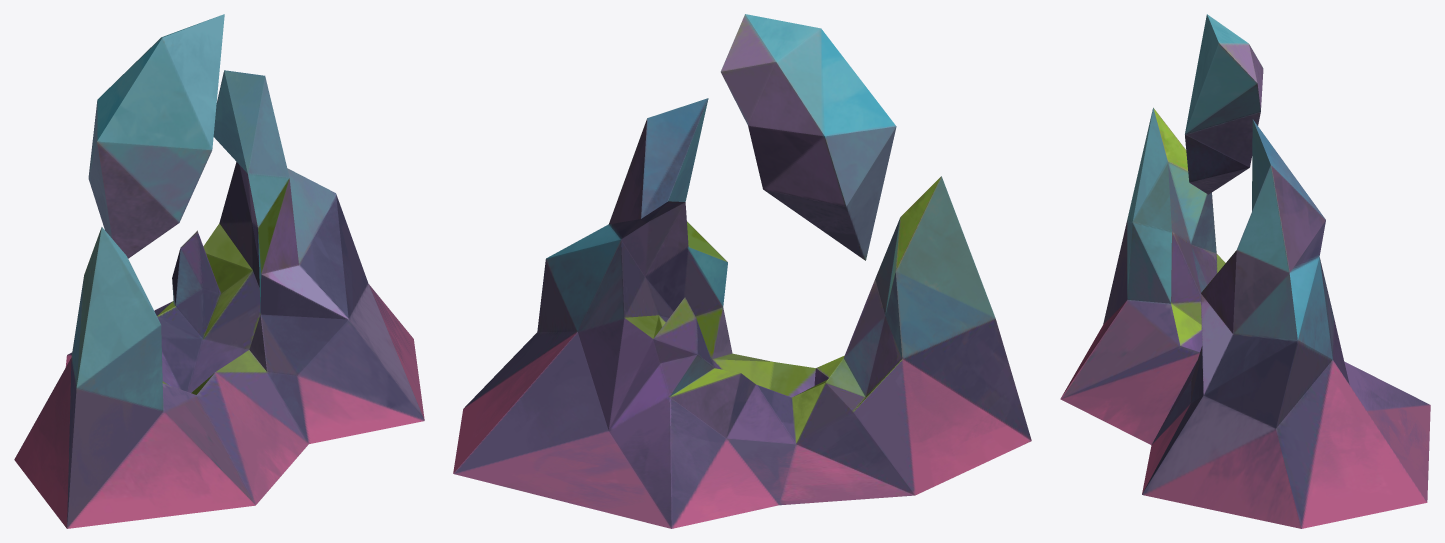
The model's file is environ_rock_var4.fbx.
3 renders of one model, left to right at view 1: azimuth 30°, elevation 25°; view 2: azimuth 150°, elevation 25°; view 3: azimuth 270°, elevation 25°, orthographic. The views are drawn at different scales.
Visible parts, largest first — view 1: environ_mtn_var4, floating_rock4; view 2: environ_mtn_var4, floating_rock4; view 3: environ_mtn_var4, floating_rock4.
Boxes of the visible parts, bbox=[...] form: environ_mtn_var4: bbox=[14, 70, 424, 528]; floating_rock4: bbox=[88, 14, 224, 258]; environ_mtn_var4: bbox=[453, 98, 1031, 528]; floating_rock4: bbox=[720, 14, 896, 260]; environ_mtn_var4: bbox=[1060, 107, 1430, 528]; floating_rock4: bbox=[1185, 14, 1263, 194].
Size of the model in its own units: 0.1202 by 0.1048 by 0.0923.
